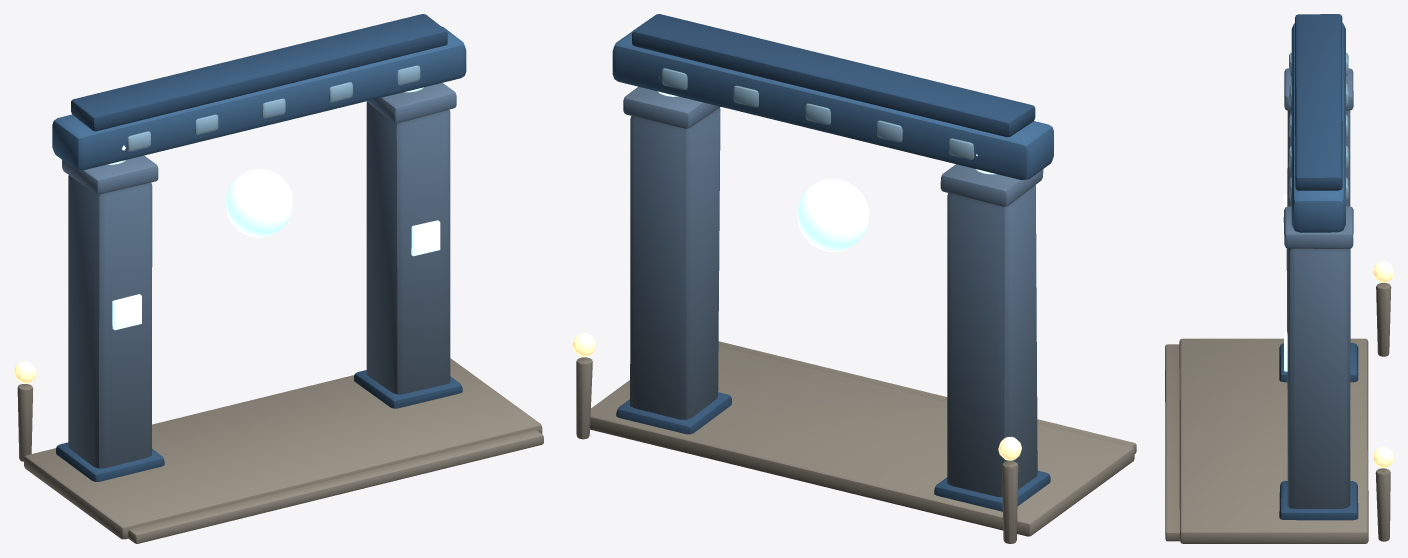
3 renders of one model, left to right at view 1: azimuth 30°, elevation 25°; view 2: azimuth 150°, elevation 25°; view 3: azimuth 270°, elevation 25°, orthographic. The views are drawn at different scales.
Visible parts, largest first — view 1: gate_d8f41725; view 2: gate_d8f41725; view 3: gate_d8f41725.
Part boxes in pixels (x1,y1,x2,y2): gate_d8f41725: [14, 14, 543, 543]; gate_d8f41725: [572, 14, 1136, 543]; gate_d8f41725: [1165, 14, 1393, 543].
Bounding box in the file's own units: 5.14 × 4.34 × 2.55.
